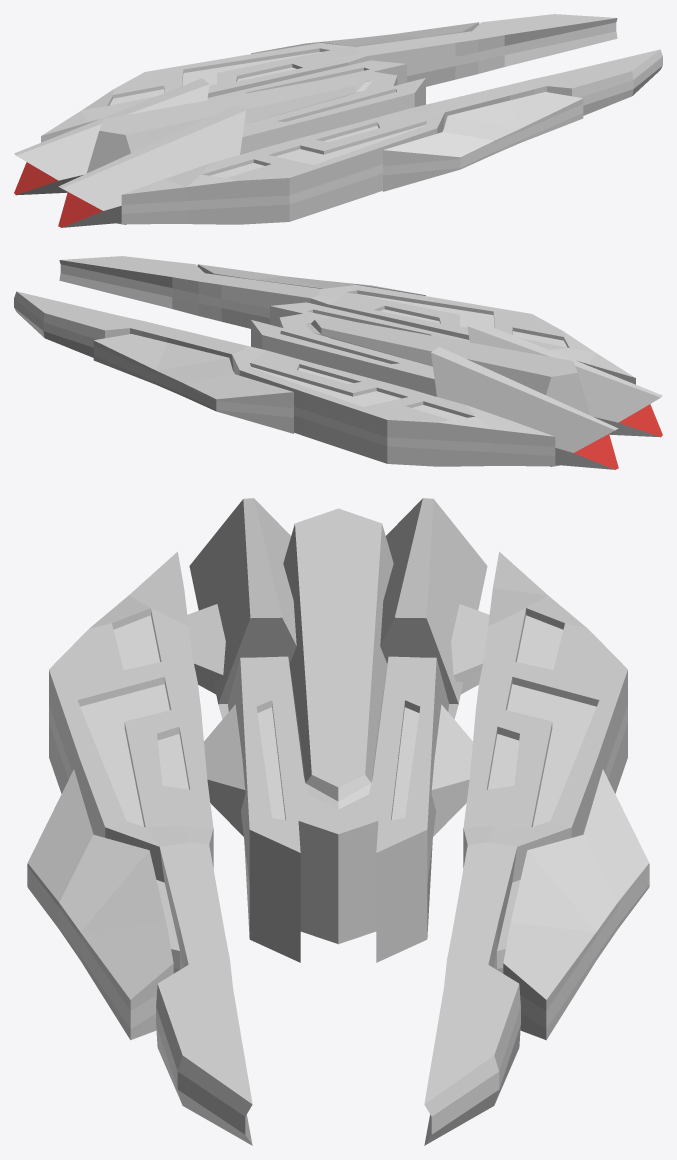
The model's file is Ship01_original.fbx.
3 renders of one model, top to bottom at view 1: azimuth 30°, elevation 25°; view 2: azimuth 150°, elevation 25°; view 3: azimuth 270°, elevation 25°, orthographic. The views are drawn at different scales.
Visible parts, largest first — view 1: Plane; view 2: Plane; view 3: Plane.
Part boxes in pixels (box(x1,y1,x2,y2)): Plane: box(14, 14, 662, 227); Plane: box(14, 256, 662, 469); Plane: box(27, 498, 649, 1145).
Size of the model in its own units: 916 by 148 by 410.
